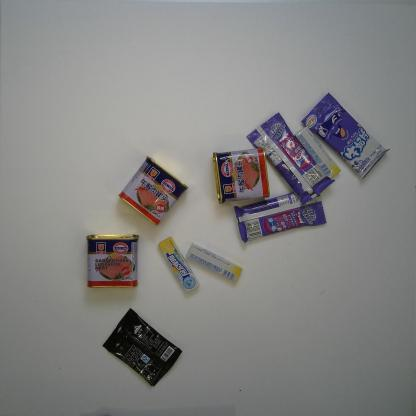Candy: (246, 112, 336, 206), (300, 92, 391, 180), (234, 192, 328, 244), (157, 236, 200, 294), (294, 126, 341, 179), (185, 243, 243, 282)
Canned Food: (118, 155, 190, 227), (212, 147, 271, 205), (86, 233, 140, 289)
Instant Drink: (101, 307, 183, 387)
